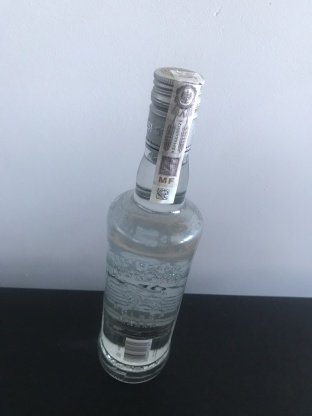nakretka: (143, 61, 208, 159), (144, 60, 188, 174)
